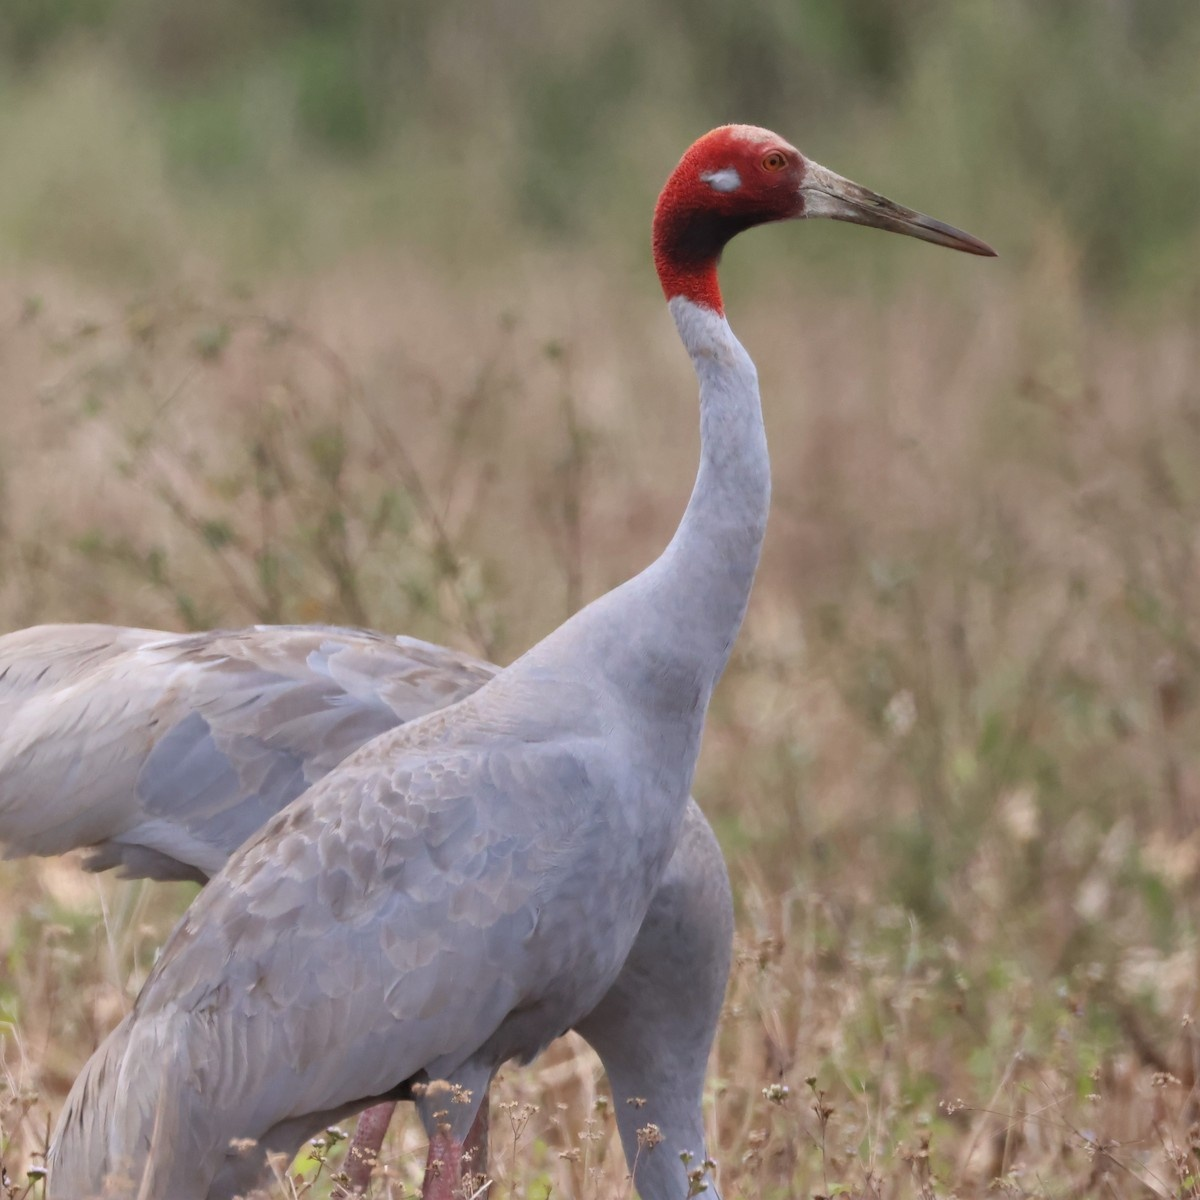crane: (59, 110, 1009, 1200)
